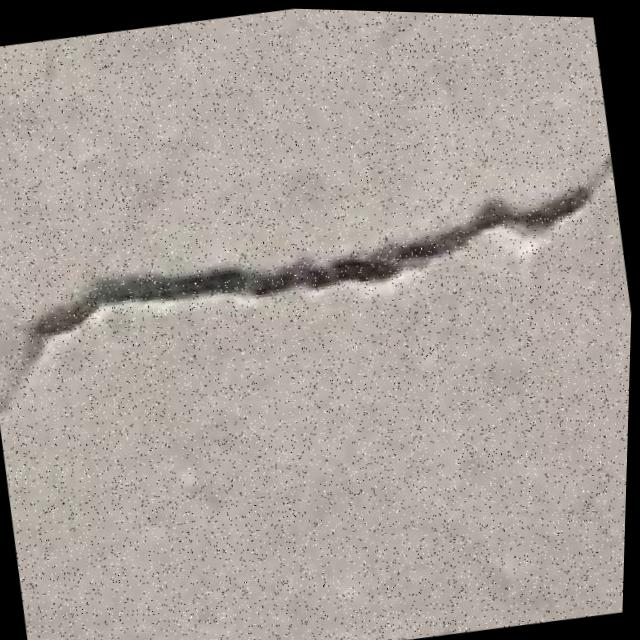Crack: (0, 123, 623, 430)
